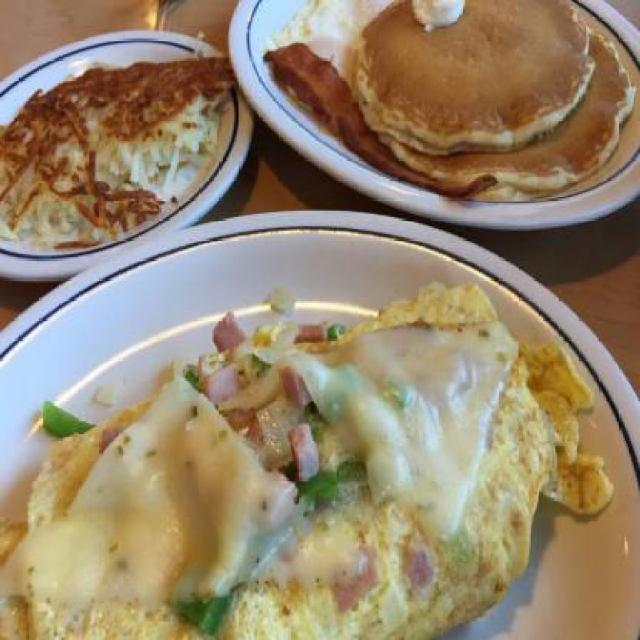omelette: (1, 277, 619, 638)
